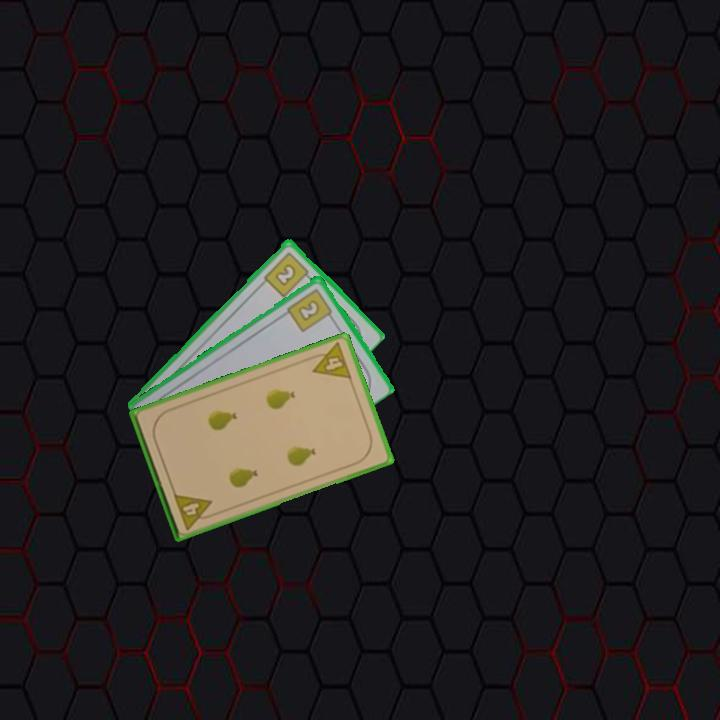2b: (260, 248, 315, 300), (284, 285, 337, 334)
4p: (305, 339, 355, 382), (170, 489, 218, 532)
